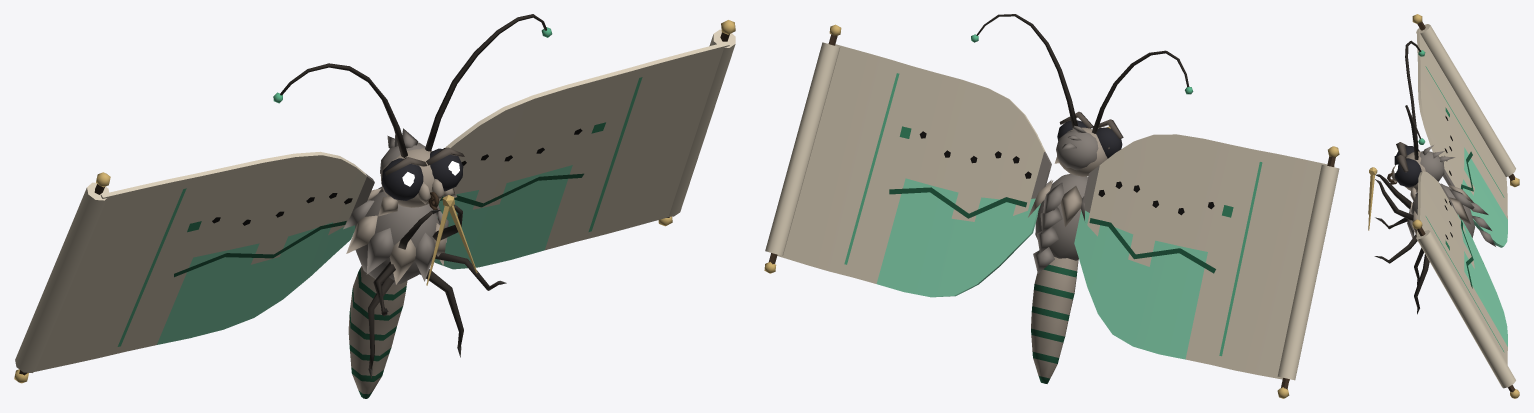
File: moth-chart.glb
3 renders of one model, left to right at view 1: azimuth 30°, elevation 25°; view 2: azimuth 150°, elevation 25°; view 3: azimuth 270°, elevation 25°, orthographic. The views are drawn at different scales.
Parts seen in each view (by area): view 1: wings_r, wings_l, body, pulse_abdomen, turn_head, blink_eye_r, sway_feeler_l, sway_feeler_r, blink_eye_l; view 2: wings_l, wings_r, pulse_abdomen, body, turn_head, sway_feeler_l, sway_feeler_r, blink_eye_r; view 3: wings_r, wings_l, body, turn_head, blink_eye_l, sway_feeler_r, sway_feeler_l.
Part boxes in pixels (left/top/right/bottom): wings_r: left=14, top=151, right=374, bottom=383; wings_l: left=434, top=20, right=735, bottom=269; body: left=343, top=186, right=506, bottom=378; pulse_abdomen: left=348, top=266, right=407, bottom=398; turn_head: left=378, top=128, right=464, bottom=216; blink_eye_r: left=381, top=158, right=423, bottom=200; sway_feeler_l: left=425, top=14, right=552, bottom=151; sway_feeler_r: left=273, top=63, right=407, bottom=157; blink_eye_l: left=430, top=148, right=463, bottom=191; wings_l: left=764, top=24, right=1051, bottom=297; wings_r: left=1074, top=134, right=1339, bottom=398; pulse_abdomen: left=1031, top=257, right=1078, bottom=383; body: left=1028, top=126, right=1110, bottom=273; turn_head: left=1054, top=111, right=1123, bottom=176; sway_feeler_l: left=971, top=14, right=1077, bottom=127; sway_feeler_r: left=1092, top=50, right=1193, bottom=133; blink_eye_r: left=1096, top=127, right=1122, bottom=158; wings_r: left=1412, top=14, right=1519, bottom=247; wings_l: left=1412, top=171, right=1519, bottom=398; body: left=1368, top=167, right=1495, bottom=314; turn_head: left=1387, top=142, right=1454, bottom=202; blink_eye_l: left=1394, top=158, right=1421, bottom=187; sway_feeler_r: left=1405, top=40, right=1425, bottom=151; sway_feeler_l: left=1405, top=105, right=1425, bottom=159.
Bounding box in the file's own units: 1.19 × 0.6867 × 0.3499.
